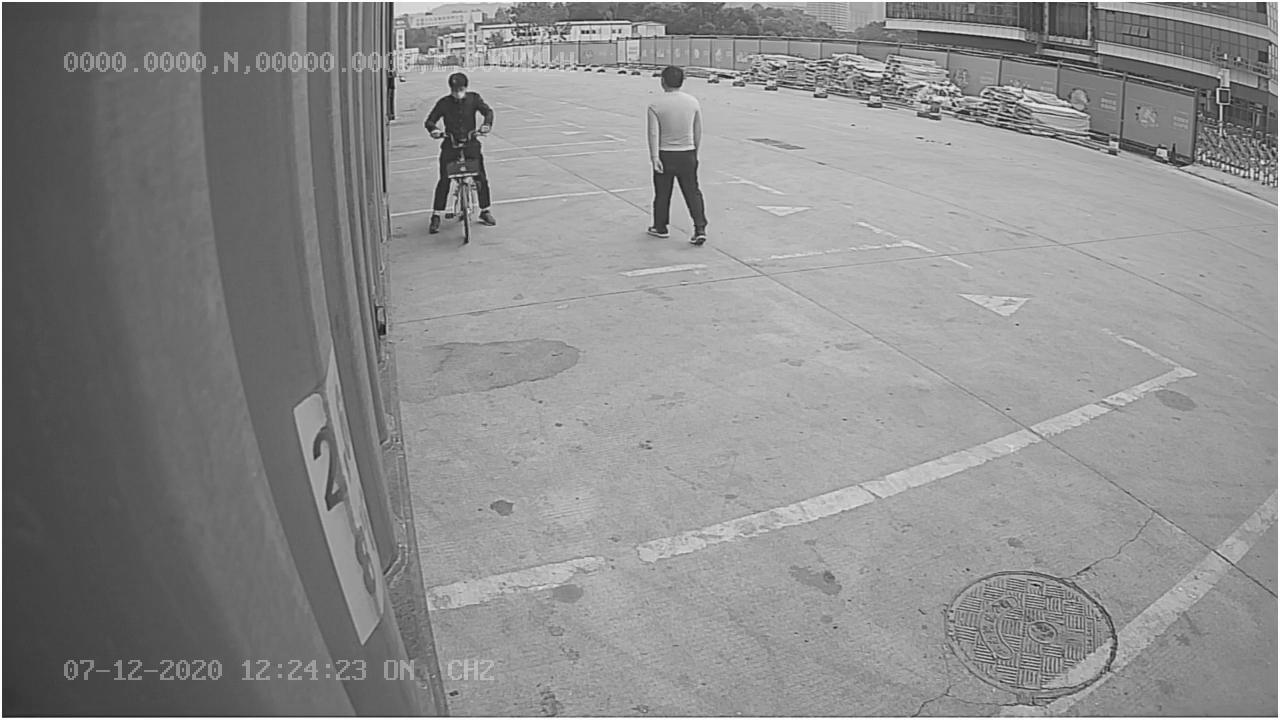person: (642, 60, 714, 251)
